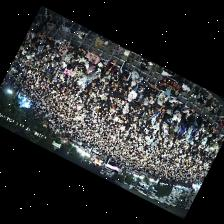person: (119, 56, 131, 81), (105, 59, 118, 76), (173, 105, 184, 125), (163, 109, 173, 127), (154, 99, 165, 115), (88, 51, 100, 65), (132, 70, 144, 84), (148, 83, 159, 98), (75, 46, 87, 59), (166, 97, 180, 108), (109, 70, 119, 85), (129, 96, 139, 111), (137, 78, 148, 90), (183, 107, 195, 118), (158, 92, 169, 104), (214, 139, 223, 153), (128, 87, 137, 101), (187, 120, 194, 138), (197, 115, 207, 127), (93, 66, 103, 78), (127, 78, 137, 90), (73, 61, 85, 71), (135, 102, 144, 115), (192, 117, 198, 136), (144, 86, 150, 104), (180, 123, 187, 138), (85, 63, 95, 73), (53, 38, 63, 48), (64, 53, 73, 64), (58, 47, 69, 56), (80, 54, 88, 66), (45, 36, 55, 45), (64, 68, 73, 78), (118, 81, 127, 91), (86, 72, 93, 84), (211, 129, 221, 137), (102, 73, 112, 81), (98, 58, 108, 66), (209, 124, 216, 135), (62, 39, 70, 48), (74, 69, 82, 78), (123, 102, 129, 113), (28, 31, 36, 39), (138, 88, 145, 97), (41, 32, 47, 42), (42, 45, 51, 51), (71, 56, 80, 62), (200, 123, 204, 136), (177, 76, 185, 82), (49, 50, 58, 55), (50, 47, 59, 52), (73, 46, 78, 55), (217, 134, 223, 139)
